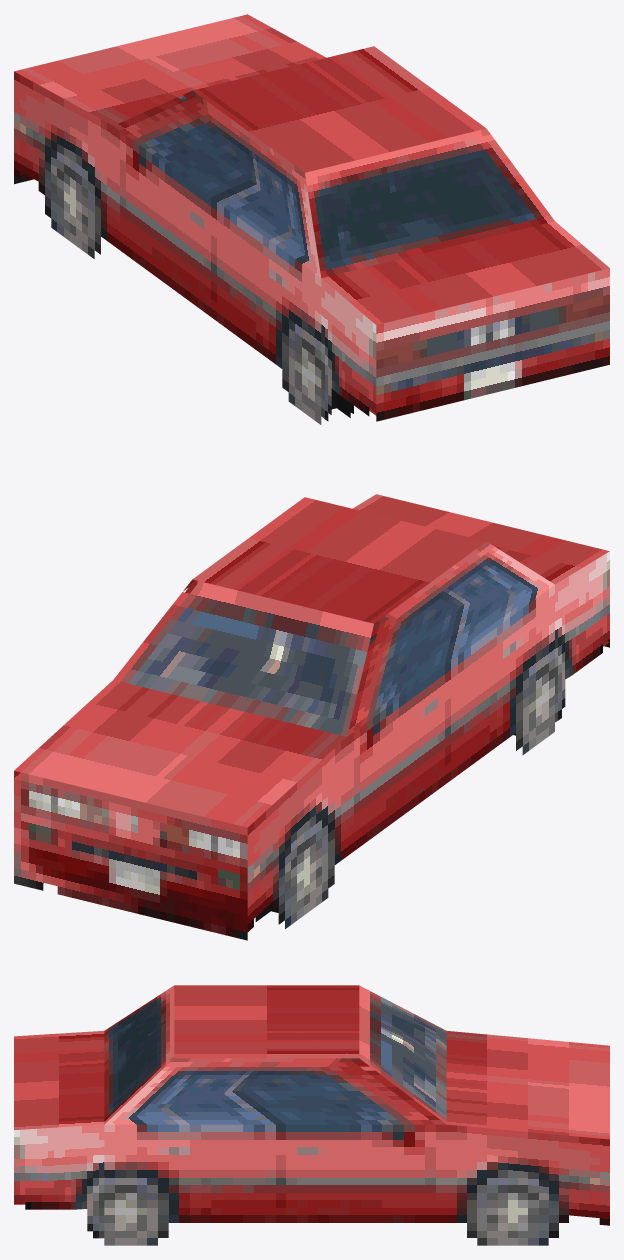
The model's file is car-sunbird-plt3.glb.
3 renders of one model, top to bottom at view 1: azimuth 30°, elevation 25°; view 2: azimuth 150°, elevation 25°; view 3: azimuth 270°, elevation 25°, orthographic. The views are drawn at different scales.
Visible parts, largest first — view 1: car-sunbird-plt3; view 2: car-sunbird-plt3; view 3: car-sunbird-plt3.
Part boxes in pixels (box(x1,y1,x2,y2)): car-sunbird-plt3: box(14, 14, 609, 424); car-sunbird-plt3: box(14, 494, 609, 940); car-sunbird-plt3: box(14, 985, 609, 1245).
Size of the model in its own units: 1.69 by 1.48 by 4.53.
Materials: 16 (16 with a texture image).
